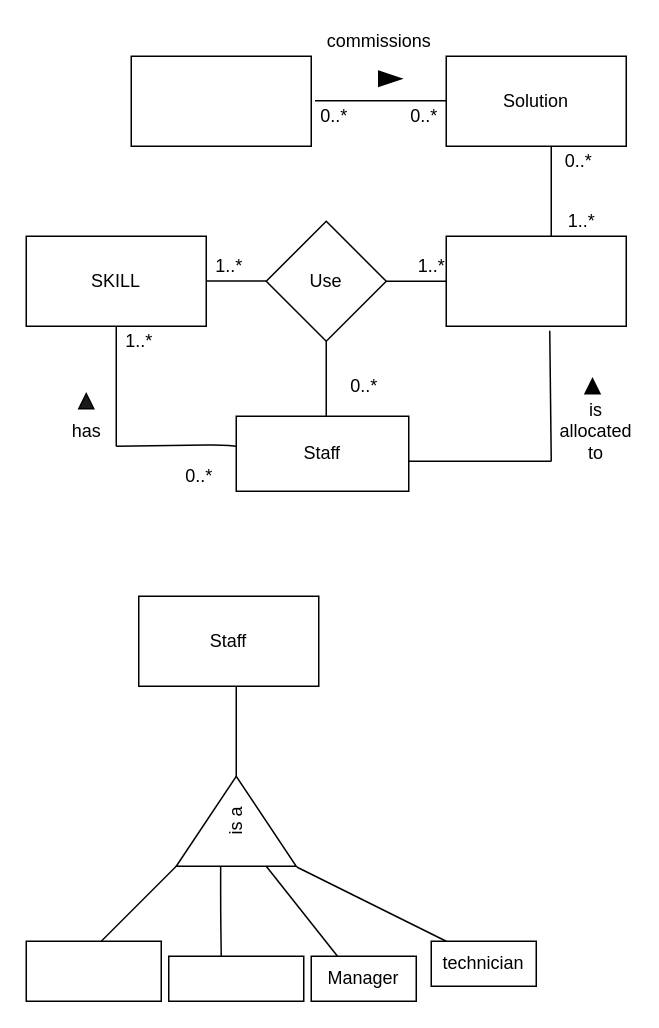
Some shapes in this 659 by 1028 pixel diagram are drawn without their labels. The centre of each missing label's shape, as x and y in pixels:
"Client" belongs at pixel 220 100.
"Doctor" belongs at pixel 93 970.
"Nurse" belongs at pixel 235 978.
"Project" belongs at pixel 535 280.
